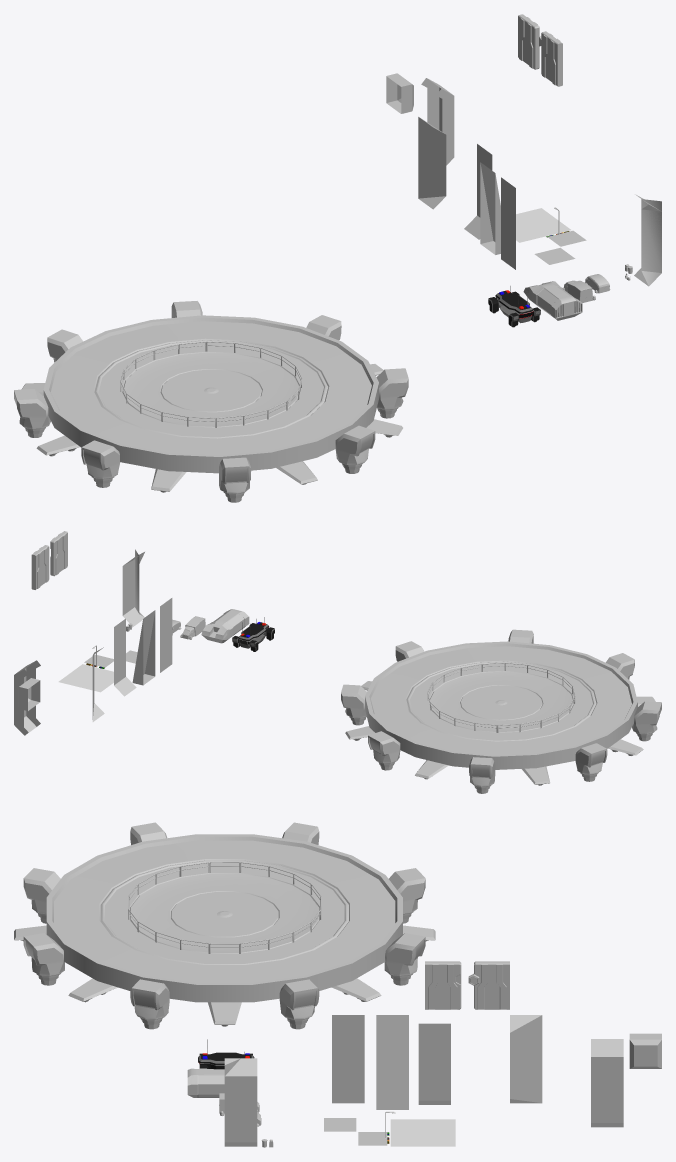
File: CityPack.fbx
3 renders of one model, top to bottom at view 1: azimuth 30°, elevation 25°; view 2: azimuth 150°, elevation 25°; view 3: azimuth 270°, elevation 25°, orthographic. The views are drawn at different scales.
Parts seen in each view (by area): view 1: PlatformOuter, PlatformCenter, Platform, WallExtrudeEnd, WallExtrudeTri, WallPanel1, WallExtrudeCorner, Cube, Railing, Wall, RoadTile, Cube.001 (+4 smaller); view 2: PlatformOuter, PlatformCenter, Platform, WallExtrudeTri, Cube, Railing, WallPanel1, RoadTile, WallExtrude.001, WallExtrude, Wall, Cube.001 (+3 smaller); view 3: PlatformOuter, PlatformCenter, Platform, WallExtrudeTri, WallExtrude, Wall, WallPanel1, WallExtrudeEnd, WallExtrude.001, RoadTile, Cube.002, Cube.003 (+7 smaller).
Boxes of the visible parts, x1,y1,x2,y2 form: PlatformOuter: (14,301,408,502); PlatformCenter: (122,352,299,427); Platform: (94,340,328,438); WallExtrudeEnd: (418,117,446,209); WallExtrudeTri: (480,162,500,254); WallPanel1: (421,78,454,165); WallExtrudeCorner: (641,204,661,285); Cube: (523,281,582,320); Railing: (120,341,301,427); Wall: (501,177,515,269); RoadTile: (516,208,571,242); Cube.001: (488,286,540,327); PlatformOuter: (341,629,661,793); PlatformCenter: (430,671,573,732); Platform: (406,661,596,741); WallExtrudeTri: (132,610,155,685); Cube: (201,609,249,643); Railing: (427,663,575,732); WallPanel1: (14,660,40,735); RoadTile: (58,664,113,692); WallExtrude.001: (114,618,136,696); WallExtrude: (122,552,144,626); Wall: (160,598,172,672); Cube.001: (232,617,274,651); PlatformOuter: (23,822,425,1029); PlatformCenter: (130,873,319,953); Platform: (100,860,348,964); WallExtrudeTri: (376,1015,408,1109); WallExtrude: (224,1058,257,1146); Wall: (332,1015,364,1103); WallPanel1: (591,1039,623,1127); WallExtrudeEnd: (510,1015,542,1103); WallExtrude.001: (418,1023,450,1104); RoadTile: (390,1119,455,1146); Cube.002: (468,961,509,1009); Cube.003: (425,961,461,1009).
Bounding box in the file's own units: 200 × 237 × 85.31.
